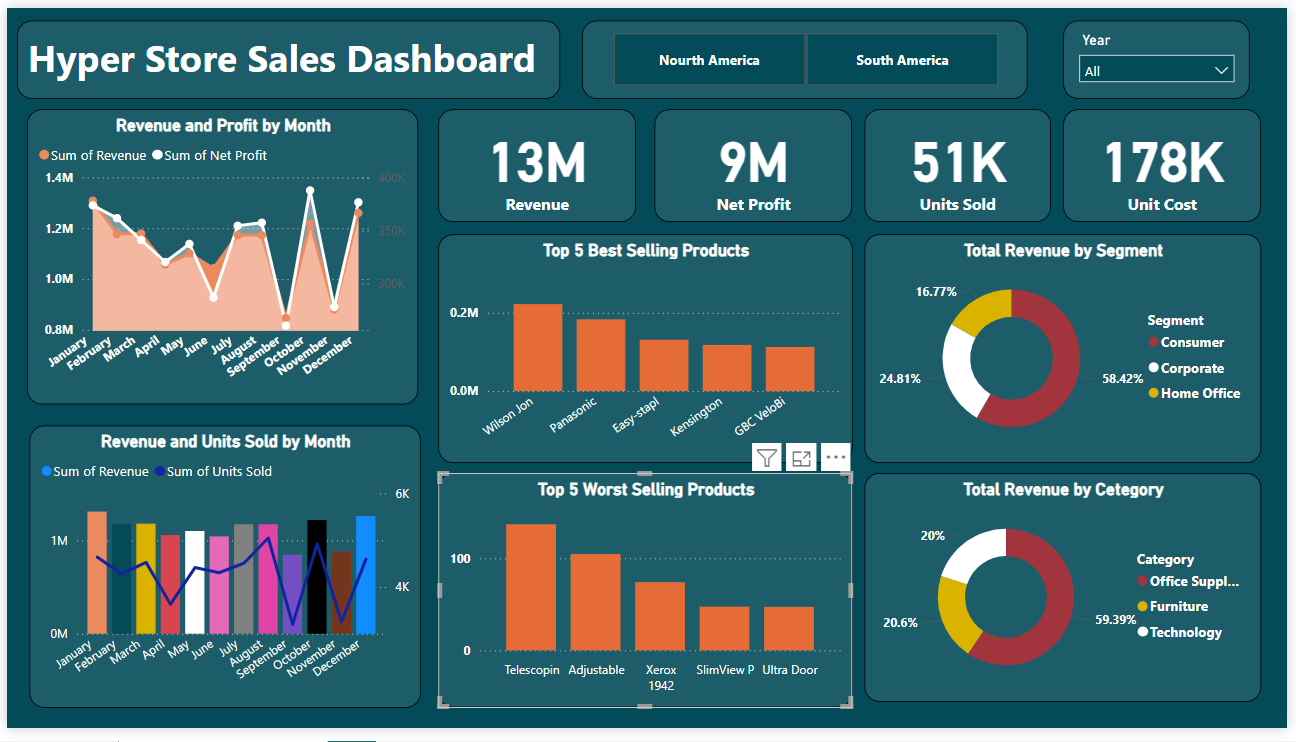

The page's visual inventory and layout, read from the dashboard file:
{"tool":"powerbi","page":{"name":"Hyper Sales Dashboard","canvas":[1280,720],"ordinal":0},"visuals":[{"type":"textbox","box":[9.6,12.3,543.4,78.2],"z":0},{"type":"card","fields":{"Values":["Sum(HyperStoreDataSet.Revenue)"]},"box":[430.9,101.5,197.6,112.5],"z":1000},{"type":"card","fields":{"Values":["Sum(HyperStoreDataSet.Net Cost)"]},"box":[647.7,101.5,197.6,112.5],"z":2000},{"type":"card","fields":{"Values":["Sum(HyperStoreDataSet.Units Sold)"]},"box":[857.6,101.5,186.6,112.5],"z":3000},{"type":"card","fields":{"Values":["Sum(HyperStoreDataSet.Unit Cost)"]},"box":[1056.6,101.5,197.6,112.5],"z":4000},{"type":"lineChart","title":"Revenue and Profit by Month","fields":{"Category":["HyperStoreDataSet.Delivery Date.Variation.Date Hierarchy.Month"],"Y":["Sum(HyperStoreDataSet.Revenue)"],"Y2":["Sum(HyperStoreDataSet.Net Profit)"]},"box":[20.6,101.5,391.1,295],"z":5000},{"type":"lineStackedColumnComboChart","title":"Revenue and Units Sold by Month","fields":{"Category":["HyperStoreDataSet.Delivery Date.Variation.Date Hierarchy.Month"],"Y":["Sum(HyperStoreDataSet.Revenue)"],"Y2":["Sum(HyperStoreDataSet.Units Sold)"]},"box":[22,417.2,391.1,282.7],"z":6000},{"type":"columnChart","title":"Top 5 Best Selling Products","fields":{"Category":["HyperStoreDataSet.Product Name"],"Y":["Sum(HyperStoreDataSet.Revenue)"]},"box":[430.9,226.4,414.4,229.2],"z":7000},{"type":"columnChart","title":"Top 5 Worst Selling Products","fields":{"Category":["HyperStoreDataSet.Product Name"],"Y":["Sum(HyperStoreDataSet.Revenue)"]},"box":[430.9,465.2,414.4,234.6],"z":8000},{"type":"donutChart","title":"Total Revenue by Segment","fields":{"Y":["Sum(HyperStoreDataSet.Revenue)"],"Category":["HyperStoreDataSet.Segment"]},"box":[857.6,226.4,396.6,229.2],"z":9000},{"type":"donutChart","title":"Total Revenue by Cetegory","fields":{"Y":["Sum(HyperStoreDataSet.Revenue)"],"Category":["HyperStoreDataSet.Category"]},"box":[857.6,465.2,396.6,229.2],"z":10000},{"type":"slicer","fields":{"Values":["HyperStoreDataSet.Country (groups)"]},"box":[575,12.3,446,78.2],"z":11000},{"type":"slicer","fields":{"Values":["HyperStoreDataSet.Delivery Date.Variation.Date Hierarchy.Year"]},"box":[1056.6,12.3,186.6,78.2],"z":12000}]}

Visuals, with their boxes in screenshot pixels (x1, y1, x2, y2), scaled from the page's 1280x720 canvas onto the 1296x742 screenshot:
textbox: (10, 13, 560, 93)
card - Sum(HyperStoreDataSet.Revenue): (436, 105, 636, 221)
card - Sum(HyperStoreDataSet.Net Cost): (656, 105, 856, 221)
card - Sum(HyperStoreDataSet.Units Sold): (868, 105, 1057, 221)
card - Sum(HyperStoreDataSet.Unit Cost): (1070, 105, 1270, 221)
"Revenue and Profit by Month" lineChart: (21, 105, 417, 409)
"Revenue and Units Sold by Month" lineStackedColumnComboChart: (22, 430, 418, 721)
"Top 5 Best Selling Products" columnChart: (436, 233, 856, 470)
"Top 5 Worst Selling Products" columnChart: (436, 479, 856, 721)
"Total Revenue by Segment" donutChart: (868, 233, 1270, 470)
"Total Revenue by Cetegory" donutChart: (868, 479, 1270, 716)
slicer - HyperStoreDataSet.Country (groups): (582, 13, 1034, 93)
slicer - HyperStoreDataSet.Delivery Date.Variation.Date Hierarchy.Year: (1070, 13, 1259, 93)
